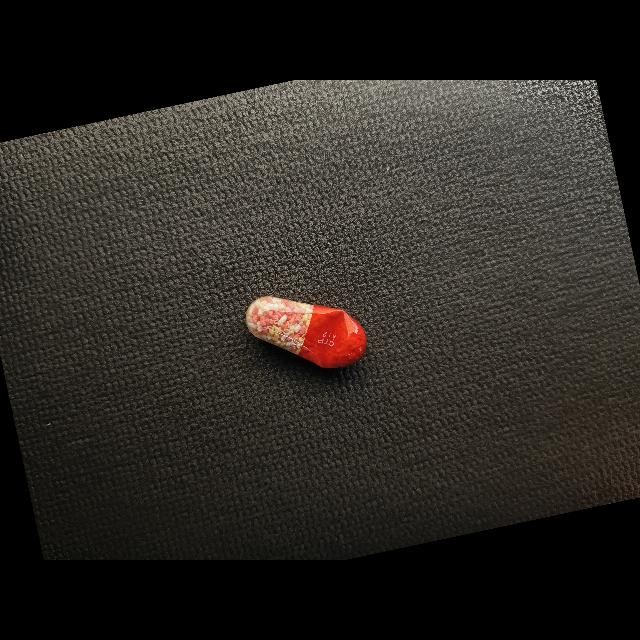Defective Capsule: (245, 296, 367, 368)
